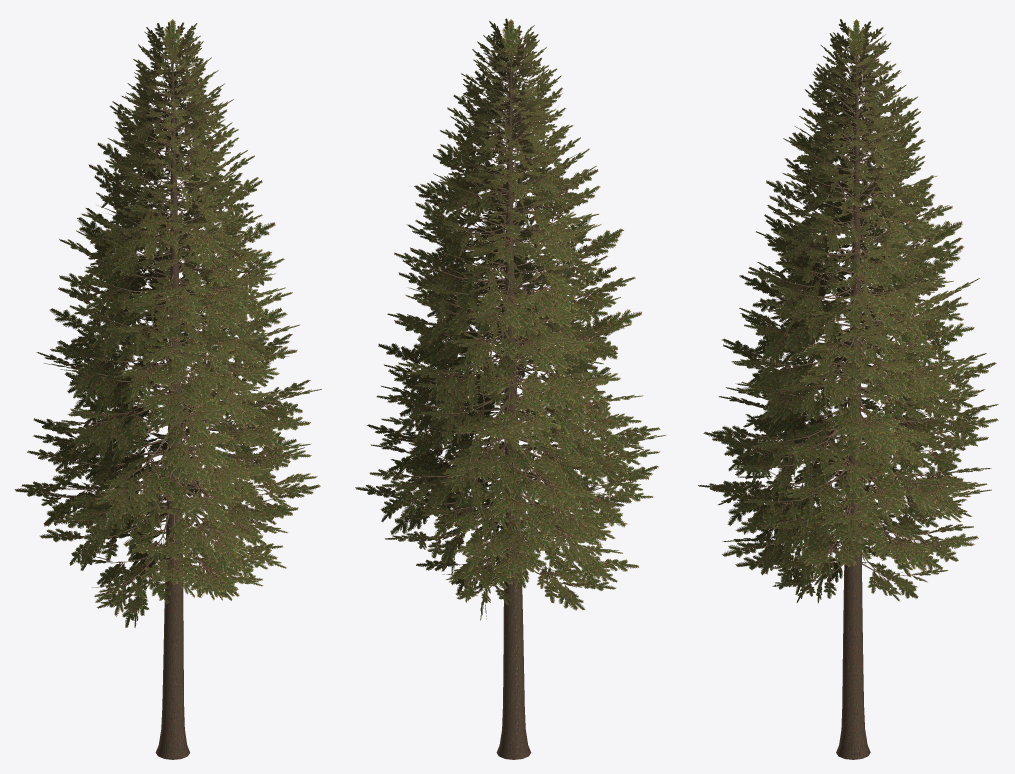
File: fir_tall_lod0.gltf
3 views of the same model, side by side, from view 1: azimuth 30°, elevation 25°; view 2: azimuth 150°, elevation 25°; view 3: azimuth 270°, elevation 25° (orthographic).
Parts seen in each view (by area): view 1: fir_tall_LOD0; view 2: fir_tall_LOD0; view 3: fir_tall_LOD0.
Part boxes in pixels (<box>): fir_tall_LOD0: <box>14,19,321,759</box>; fir_tall_LOD0: <box>355,18,666,759</box>; fir_tall_LOD0: <box>698,19,998,759</box>.
Size of the model in its own units: 11.42 by 30.6 by 11.52.
2 materials, 2 textured.
